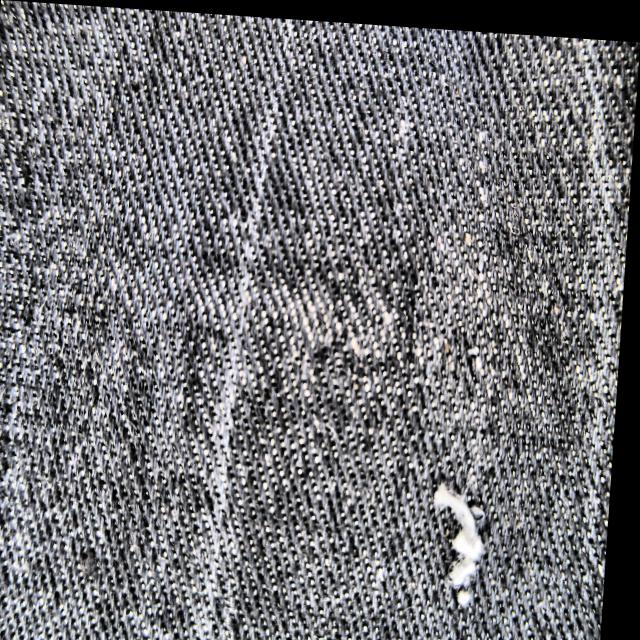Hole: (398, 454, 522, 621)
